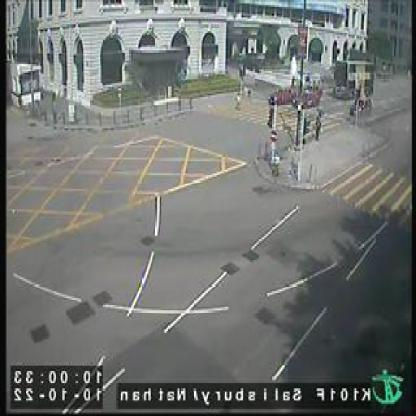Bus: (332, 61, 374, 99)
